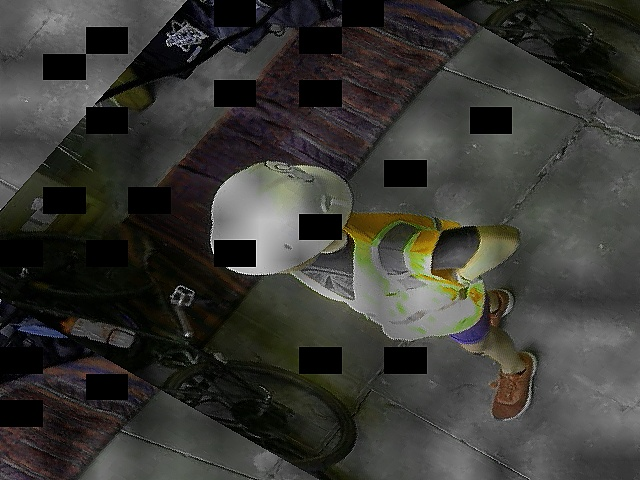eight: (258, 149, 316, 189)
